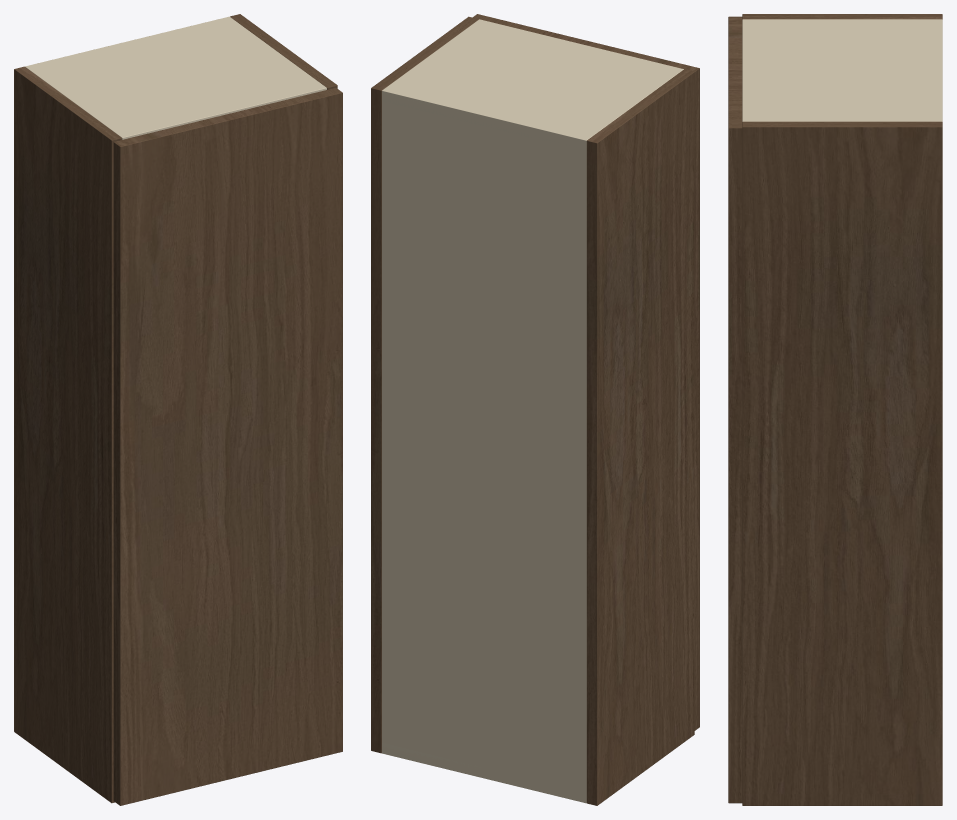
The model's file is oppein-ply-mso-w1542.glb.
The picture shows the model from 3 angles, left to right: view 1: azimuth 30°, elevation 25°; view 2: azimuth 150°, elevation 25°; view 3: azimuth 270°, elevation 25°; orthographic projection. The views are drawn at different scales.
Visible parts, largest first — view 1: Door, Cabinet side, Cabinet top, Cabinet side.001; view 2: Cabinet back, Cabinet side, Cabinet top, Cabinet side.001, Door, Cabinet bottom; view 3: Cabinet side.001, Cabinet top, Door, Cabinet side.
Boxes of the visible parts, x1,y1,x2,y2 form: Door: [113, 88, 342, 805]; Cabinet side: [14, 66, 122, 803]; Cabinet top: [25, 16, 326, 139]; Cabinet side.001: [230, 14, 337, 89]; Cabinet back: [382, 91, 586, 803]; Cabinet side: [586, 69, 694, 805]; Cabinet top: [382, 19, 683, 149]; Cabinet side.001: [371, 16, 478, 753]; Door: [472, 14, 699, 730]; Cabinet bottom: [382, 743, 586, 794]; Cabinet side.001: [742, 121, 942, 805]; Cabinet top: [742, 19, 942, 121]; Door: [728, 16, 742, 803]; Cabinet side: [742, 14, 942, 19].
Bounding box in the file's own units: 0.381 × 1.07 × 0.3048.
2 materials, 1 textured.
